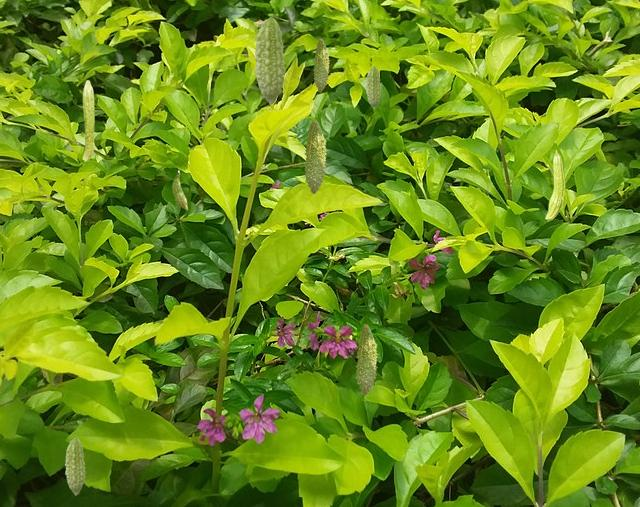ampalaya: (253, 16, 285, 105), (303, 119, 327, 194), (355, 324, 378, 396), (544, 149, 565, 219), (64, 437, 85, 495), (82, 79, 95, 161), (312, 37, 330, 92), (365, 65, 381, 109), (171, 170, 188, 210)
